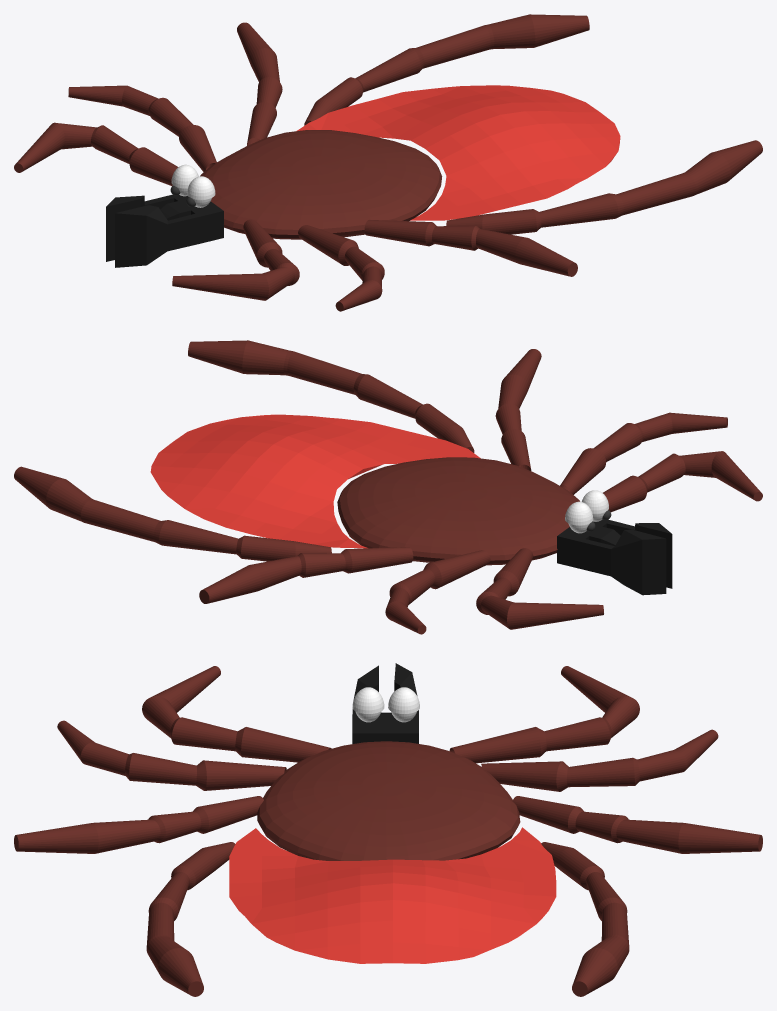
File: garrapataExp.glb
The picture shows the model from 3 angles, top to bottom: view 1: azimuth 30°, elevation 25°; view 2: azimuth 150°, elevation 25°; view 3: azimuth 270°, elevation 25°; orthographic projection. The views are drawn at different scales.
Parts seen in each view (by area): view 1: Grid.002, Sphere.002, Cylinder.001, Cylinder, Cube, Cylinder.003, Cylinder.006, Cylinder.007, Cylinder.004, Cylinder.005, Cylinder.002; view 2: Grid.002, Sphere.002, Cylinder, Cylinder.001, Cube, Cylinder.002, Cylinder.006, Cylinder.007, Cylinder.005, Cylinder.004, Cylinder.003; view 3: Grid.002, Sphere.002, Cylinder.002, Cylinder.003, Cylinder.006, Cylinder.007, Cylinder.004, Cylinder.005, Cylinder.001, Cylinder, Cube, Sphere.005 (+1 smaller).
Boxes of the visible parts, x1,y1,x2,y2 form: Grid.002: [296, 85, 620, 220]; Sphere.002: [200, 130, 442, 239]; Cylinder.001: [446, 140, 762, 234]; Cylinder: [304, 14, 589, 125]; Cube: [106, 194, 223, 267]; Cylinder.003: [364, 220, 577, 276]; Cylinder.006: [14, 122, 178, 185]; Cylinder.007: [172, 219, 299, 300]; Cylinder.004: [68, 85, 216, 171]; Cylinder.005: [298, 225, 384, 311]; Cylinder.002: [237, 22, 282, 145]; Grid.002: [150, 414, 480, 548]; Sphere.002: [337, 457, 579, 565]; Cylinder: [14, 466, 331, 561]; Cylinder.001: [188, 340, 474, 452]; Cube: [557, 519, 672, 595]; Cylinder.002: [199, 547, 413, 603]; Cylinder.006: [476, 548, 603, 629]; Cylinder.007: [603, 451, 762, 512]; Cylinder.005: [560, 412, 727, 494]; Cylinder.004: [385, 550, 490, 634]; Cylinder.003: [495, 349, 541, 470]; Grid.002: [229, 827, 556, 963]; Sphere.002: [257, 741, 520, 860]; Cylinder.002: [512, 796, 762, 853]; Cylinder.003: [14, 796, 263, 853]; Cylinder.006: [449, 666, 639, 763]; Cylinder.007: [142, 666, 331, 762]; Cylinder.004: [481, 729, 718, 791]; Cylinder.005: [57, 720, 286, 790]; Cylinder.001: [146, 842, 235, 996]; Cylinder: [541, 842, 629, 996]; Cube: [352, 663, 418, 743]; Sphere.005: [352, 688, 384, 713].
Size of the model in its own units: 1.76 by 0.215 by 1.74.
